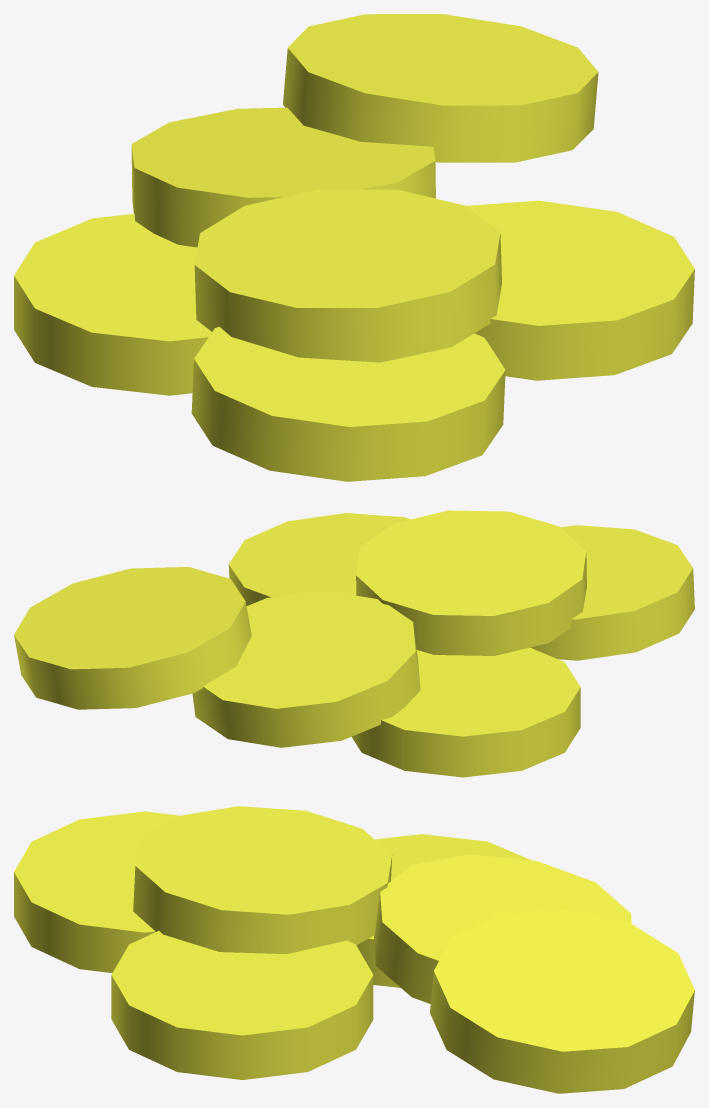
The model's file is Coins 7.glb.
The picture shows the model from 3 angles, top to bottom: view 1: azimuth 30°, elevation 25°; view 2: azimuth 150°, elevation 25°; view 3: azimuth 270°, elevation 25°; orthographic projection. The views are drawn at different scales.
Visible parts, largest first — view 1: coins_7; view 2: coins_7; view 3: coins_7.
Boxes of the visible parts, box(x1,y1,x2,y2) form: coins_7: box(14, 14, 694, 481); coins_7: box(14, 510, 694, 777); coins_7: box(14, 806, 694, 1093).
Size of the model in its own units: 0.4642 by 0.1013 by 0.5198.
